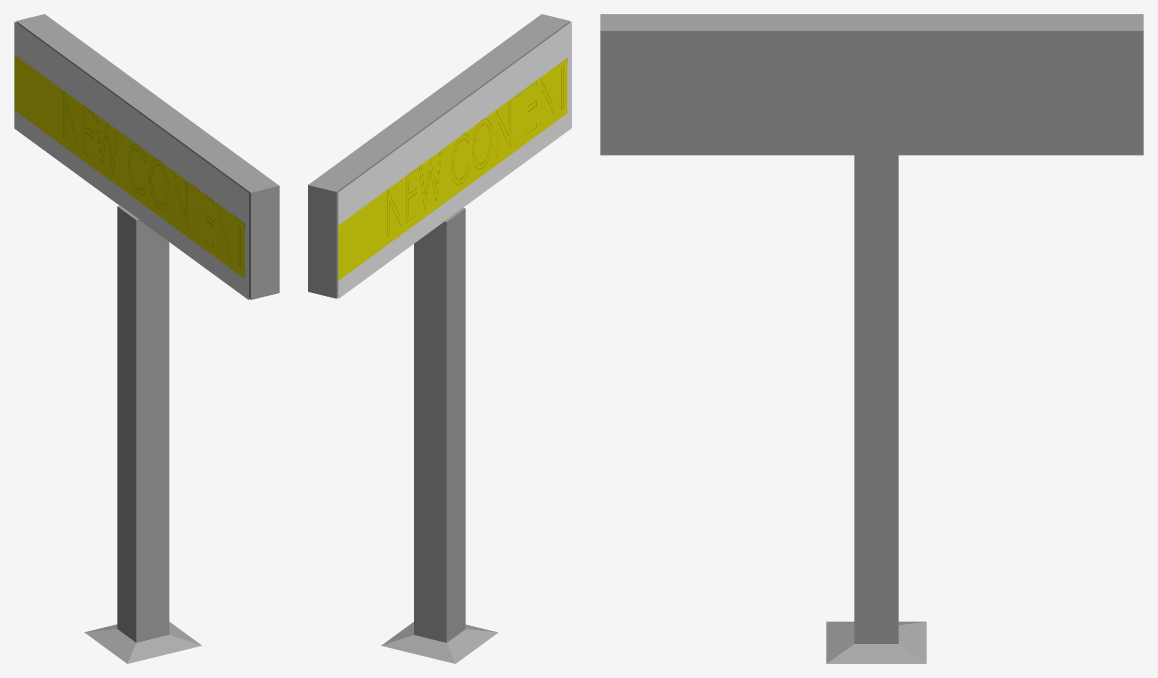
Rendered from newContentSign.fbx.
3 renders of one model, left to right at view 1: azimuth 30°, elevation 25°; view 2: azimuth 150°, elevation 25°; view 3: azimuth 270°, elevation 25°, orthographic. The views are drawn at different scales.
Visible parts, largest first — view 1: NewContent_Sign1; view 2: NewContent_Sign1; view 3: NewContent_Sign1.
Part boxes in pixels (<box>): NewContent_Sign1: <box>14,14,279,663</box>; NewContent_Sign1: <box>308,14,571,663</box>; NewContent_Sign1: <box>600,14,1143,663</box>.
Bounding box in the file's own units: 18.43 × 126 × 100.
Materials: 2 (1 with a texture image).
